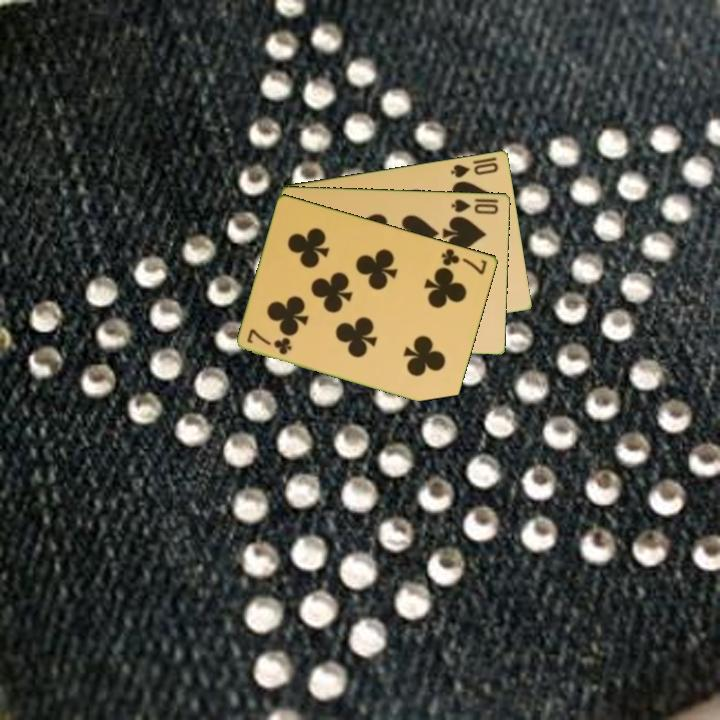10s: (447, 158, 501, 180), (448, 195, 501, 217)
7c: (438, 245, 490, 277), (244, 325, 295, 357)
